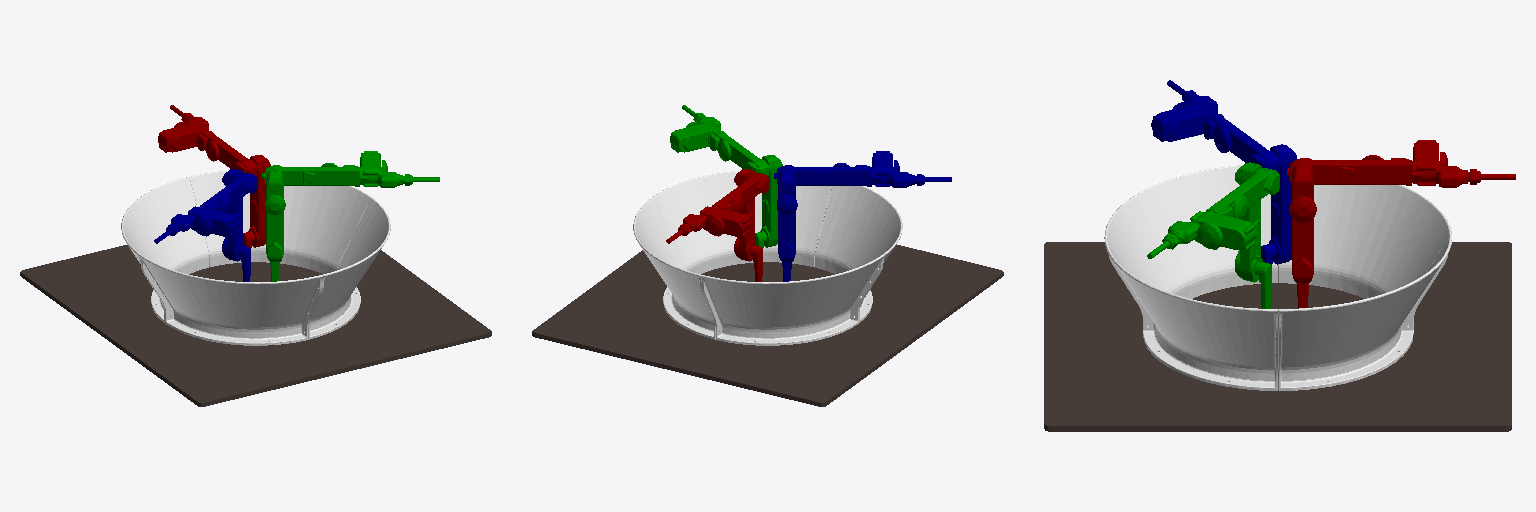
robot.urdf — trifinger_with_stage:
<?xml version="1.0" ?>
<!-- =================================================================================== -->
<!-- |    This document was autogenerated by xacro from robot_properties_fingers/xacro/trifinger_with_stage.urdf.xacro | -->
<!-- |    EDITING THIS FILE BY HAND IS NOT RECOMMENDED                                 | -->
<!-- =================================================================================== -->
<robot name="trifinger_with_stage">
  <!--
    Frames are defined such that they all align with the base frame when all
    joints are at position zero.

    In zero-configuration the origins of all joints are in one line.

    In zero-configuration the origin of the base link is exactly above the
    finger tip which should make it easy to place the finger in the world.
    -->
  <!-- Define the global base_link and place all other objects relative to it. -->
  <link name="base_link">
    <inertial>
      <origin rpy="0 0 0" xyz="0 0 0"/>
      <mass value="1"/>
      <inertia ixx="4.166666666666667e-06" ixy="0" ixz="0" iyy="4.166666666666667e-06" iyz="0" izz="4.166666666666667e-06"/>
    </inertial>
  </link>
  <!-- Define the upper holder -->
  <link name="upper_holder_link">
    <inertial>
      <origin rpy="0 0 0" xyz="0 0 0"/>
      <mass value="1"/>
      <inertia ixx="4.166666666666667e-06" ixy="0" ixz="0" iyy="4.166666666666667e-06" iyz="0" izz="4.166666666666667e-06"/>
    </inertial>
  </link>
  <joint name="base_to_upper_holder_joint" type="fixed">
    <parent link="base_link"/>
    <child link="upper_holder_link"/>
    <origin xyz="0 0 0.29"/>
  </joint>
  <material name="finger_0_material">
    <color rgba="0.6 0.0 0.0 1.0"/>
  </material>
  <material name="finger_120_material">
    <color rgba="0.0 0.6 0.0 1.0"/>
  </material>
  <material name="finger_240_material">
    <color rgba="0.0 0.0 0.6 1.0"/>
  </material>
  <!--
        Fixed links for the finger base (parts where the upper link is mounted).
        -->
  <link name="finger_base_link_0">
    <visual>
      <origin rpy="0 0 0" xyz="0 0.179 0"/>
      <geometry>
        <mesh filename="package://robot_properties_fingers/meshes/SIM__BL-Finger_Base.stl" scale="1 1 1"/>
      </geometry>
      <material name="finger_0_material"/>
    </visual>
    <collision>
      <origin rpy="0 0 0" xyz="0 0.179 0"/>
      <geometry>
        <mesh filename="package://robot_properties_fingers/meshes/SIM__BL-Finger_Base.stl" scale="1 1 1"/>
      </geometry>
    </collision>
    <inertial>
      <origin rpy="0 0 0" xyz="0 0 0"/>
      <mass value="1"/>
      <inertia ixx="0.00041666666666666675" ixy="0" ixz="0" iyy="0.00041666666666666675" iyz="0" izz="0.00041666666666666675"/>
    </inertial>
  </link>
  <!-- The movable links (upper, middle and lower) of the finger. -->
  <!-- TODO inertia parameters don't look correct, they cant be same for upper and middle! -->
  <link name="finger_upper_link_0">
    <visual>
      <origin rpy="0 0 0" xyz="0 -0.02695 0"/>
      <geometry>
        <mesh filename="package://robot_properties_fingers/meshes/SIM__BL-Finger_Proximal.stl" scale="1 1 1"/>
      </geometry>
      <material name="finger_0_material"/>
    </visual>
    <collision>
      <origin rpy="0 0 0" xyz="0 -0.02695 0"/>
      <geometry>
        <mesh filename="package://robot_properties_fingers/meshes/SIM__BL-Finger_Proximal.stl" scale="1 1 1"/>
      </geometry>
    </collision>
    <inertial>
      <origin rpy="0 0 0" xyz="0 0.06 0"/>
      <mass value="0.2"/>
      <inertia ixx="0.0003533333333333334" ixy="0" ixz="0" iyy="5.333333333333333e-05" iyz="0" izz="0.0003533333333333334"/>
    </inertial>
  </link>
  <link name="finger_middle_link_0">
    <visual>
      <origin rpy="1.5707963267948966 0 0" xyz="0.014 0 0"/>
      <geometry>
        <mesh filename="package://robot_properties_fingers/meshes/SIM__BL-Finger_Intermediate.stl" scale="1 1 1"/>
      </geometry>
      <material name="finger_0_material"/>
    </visual>
    <collision>
      <origin rpy="1.5707963267948966 0 0" xyz="0.014 0 0"/>
      <geometry>
        <mesh filename="package://robot_properties_fingers/meshes/SIM__BL-Finger_Intermediate.stl" scale="1 1 1"/>
      </geometry>
    </collision>
    <inertial>
      <origin rpy="0 0 0" xyz="0.028 0 -0.08"/>
      <mass value="0.2"/>
      <inertia ixx="0.0003533333333333334" ixy="0" ixz="0" iyy="0.0003533333333333334" iyz="0" izz="5.333333333333333e-05"/>
    </inertial>
  </link>
  <link name="finger_lower_link_0">
    <visual>
      <origin rpy="1.5707963267948966 0 0" xyz="0.014 0 0"/>
      <geometry>
        <mesh filename="package://robot_properties_fingers/meshes/SIM_BL_FINGER_TIP_LINK.stl" scale="1 1 1"/>
      </geometry>
      <material name="finger_0_material"/>
    </visual>
    <collision>
      <origin rpy="1.5707963267948966 0 0" xyz="0.014 0 0"/>
      <geometry>
        <mesh filename="package://robot_properties_fingers/meshes/SIM_BL_FINGER_TIP_LINK.stl" scale="1 1 1"/>
      </geometry>
    </collision>
    <inertial>
      <origin rpy="0 0 0" xyz="0 0 -0.06"/>
      <mass value="0.01"/>
      <inertia ixx="1.6666666666666667e-05" ixy="0" ixz="0" iyy="1.6666666666666667e-05" iyz="0" izz="6.666666666666667e-07"/>
    </inertial>
  </link>
  <!-- fixed link for finger tip -->
  <link name="finger_tip_link_0">
    <inertial>
      <origin rpy="0 0 0" xyz="0 0 0"/>
      <mass value="0.02"/>
      <inertia ixx="3.3333333333333335e-07" ixy="0" ixz="0" iyy="3.3333333333333335e-07" iyz="0" izz="3.3333333333333335e-07"/>
    </inertial>
  </link>
  <joint name="finger_lower_to_tip_joint_0" type="fixed">
    <parent link="finger_lower_link_0"/>
    <child link="finger_tip_link_0"/>
    <origin xyz="0 0 -0.16"/>
  </joint>
  <!-- kinematics -->
  <!-- TODO: joint limits are based on values from wiki
        (https://atlas.is.localnet/confluence/display/AMDW/Forward+Kinematics) but
        should be verified on the real system (especially the finger tip limits look
        a bit too big when visualizing the model. -->
  <joint name="finger_base_to_upper_joint_0" type="revolute">
    <parent link="finger_base_link_0"/>
    <child link="finger_upper_link_0"/>
    <limit effort="1000" lower="-1.5707963267948966" upper="1.5707963267948966" velocity="1000"/>
    <axis xyz="0 1 0"/>
    <origin rpy="0 0 0" xyz="0 0 0"/>
  </joint>
  <joint name="finger_upper_to_middle_joint_0" type="revolute">
    <parent link="finger_upper_link_0"/>
    <child link="finger_middle_link_0"/>
    <limit effort="1000" lower="-1.3526301702956054" upper="4.494222823885399" velocity="1000"/>
    <axis xyz="-1 0 0"/>
    <origin rpy="0 0 0" xyz="0 0 0"/>
  </joint>
  <joint name="finger_middle_to_lower_joint_0" type="revolute">
    <parent link="finger_middle_link_0"/>
    <child link="finger_lower_link_0"/>
    <limit effort="1000" lower="-3.001966313430247" upper="3.001966313430247" velocity="1000"/>
    <axis xyz="1 0 0"/>
    <origin rpy="0 0 0" xyz="0 0 -0.16"/>
  </joint>
  <!--
        Fixed links for the finger base (parts where the upper link is mounted).
        -->
  <link name="finger_base_link_120">
    <visual>
      <origin rpy="0 0 0" xyz="0 0.179 0"/>
      <geometry>
        <mesh filename="package://robot_properties_fingers/meshes/SIM__BL-Finger_Base.stl" scale="1 1 1"/>
      </geometry>
      <material name="finger_120_material"/>
    </visual>
    <collision>
      <origin rpy="0 0 0" xyz="0 0.179 0"/>
      <geometry>
        <mesh filename="package://robot_properties_fingers/meshes/SIM__BL-Finger_Base.stl" scale="1 1 1"/>
      </geometry>
    </collision>
    <inertial>
      <origin rpy="0 0 0" xyz="0 0 0"/>
      <mass value="1"/>
      <inertia ixx="0.00041666666666666675" ixy="0" ixz="0" iyy="0.00041666666666666675" iyz="0" izz="0.00041666666666666675"/>
    </inertial>
  </link>
  <!-- The movable links (upper, middle and lower) of the finger. -->
  <!-- TODO inertia parameters don't look correct, they cant be same for upper and middle! -->
  <link name="finger_upper_link_120">
    <visual>
      <origin rpy="0 0 0" xyz="0 -0.02695 0"/>
      <geometry>
        <mesh filename="package://robot_properties_fingers/meshes/SIM__BL-Finger_Proximal.stl" scale="1 1 1"/>
      </geometry>
      <material name="finger_120_material"/>
    </visual>
    <collision>
      <origin rpy="0 0 0" xyz="0 -0.02695 0"/>
      <geometry>
        <mesh filename="package://robot_properties_fingers/meshes/SIM__BL-Finger_Proximal.stl" scale="1 1 1"/>
      </geometry>
    </collision>
    <inertial>
      <origin rpy="0 0 0" xyz="0 0.06 0"/>
      <mass value="0.2"/>
      <inertia ixx="0.0003533333333333334" ixy="0" ixz="0" iyy="5.333333333333333e-05" iyz="0" izz="0.0003533333333333334"/>
    </inertial>
  </link>
  <link name="finger_middle_link_120">
    <visual>
      <origin rpy="1.5707963267948966 0 0" xyz="0.014 0 0"/>
      <geometry>
        <mesh filename="package://robot_properties_fingers/meshes/SIM__BL-Finger_Intermediate.stl" scale="1 1 1"/>
      </geometry>
      <material name="finger_120_material"/>
    </visual>
    <collision>
      <origin rpy="1.5707963267948966 0 0" xyz="0.014 0 0"/>
      <geometry>
        <mesh filename="package://robot_properties_fingers/meshes/SIM__BL-Finger_Intermediate.stl" scale="1 1 1"/>
      </geometry>
    </collision>
    <inertial>
      <origin rpy="0 0 0" xyz="0.028 0 -0.08"/>
      <mass value="0.2"/>
      <inertia ixx="0.0003533333333333334" ixy="0" ixz="0" iyy="0.0003533333333333334" iyz="0" izz="5.333333333333333e-05"/>
    </inertial>
  </link>
  <link name="finger_lower_link_120">
    <visual>
      <origin rpy="1.5707963267948966 0 0" xyz="0.014 0 0"/>
      <geometry>
        <mesh filename="package://robot_properties_fingers/meshes/SIM_BL_FINGER_TIP_LINK.stl" scale="1 1 1"/>
      </geometry>
      <material name="finger_120_material"/>
    </visual>
    <collision>
      <origin rpy="1.5707963267948966 0 0" xyz="0.014 0 0"/>
      <geometry>
        <mesh filename="package://robot_properties_fingers/meshes/SIM_BL_FINGER_TIP_LINK.stl" scale="1 1 1"/>
      </geometry>
    </collision>
    <inertial>
      <origin rpy="0 0 0" xyz="0 0 -0.06"/>
      <mass value="0.01"/>
      <inertia ixx="1.6666666666666667e-05" ixy="0" ixz="0" iyy="1.6666666666666667e-05" iyz="0" izz="6.666666666666667e-07"/>
    </inertial>
  </link>
  <!-- fixed link for finger tip -->
  <link name="finger_tip_link_120">
    <inertial>
      <origin rpy="0 0 0" xyz="0 0 0"/>
      <mass value="0.02"/>
      <inertia ixx="3.3333333333333335e-07" ixy="0" ixz="0" iyy="3.3333333333333335e-07" iyz="0" izz="3.3333333333333335e-07"/>
    </inertial>
  </link>
  <joint name="finger_lower_to_tip_joint_120" type="fixed">
    <parent link="finger_lower_link_120"/>
    <child link="finger_tip_link_120"/>
    <origin xyz="0 0 -0.16"/>
  </joint>
  <!-- kinematics -->
  <!-- TODO: joint limits are based on values from wiki
        (https://atlas.is.localnet/confluence/display/AMDW/Forward+Kinematics) but
        should be verified on the real system (especially the finger tip limits look
        a bit too big when visualizing the model. -->
  <joint name="finger_base_to_upper_joint_120" type="revolute">
    <parent link="finger_base_link_120"/>
    <child link="finger_upper_link_120"/>
    <limit effort="1000" lower="-1.5707963267948966" upper="1.5707963267948966" velocity="1000"/>
    <axis xyz="0 1 0"/>
    <origin rpy="0 0 0" xyz="0 0 0"/>
  </joint>
  <joint name="finger_upper_to_middle_joint_120" type="revolute">
    <parent link="finger_upper_link_120"/>
    <child link="finger_middle_link_120"/>
    <limit effort="1000" lower="-1.3526301702956054" upper="4.494222823885399" velocity="1000"/>
    <axis xyz="-1 0 0"/>
    <origin rpy="0 0 0" xyz="0 0 0"/>
  </joint>
  <joint name="finger_middle_to_lower_joint_120" type="revolute">
    <parent link="finger_middle_link_120"/>
    <child link="finger_lower_link_120"/>
    <limit effort="1000" lower="-3.001966313430247" upper="3.001966313430247" velocity="1000"/>
    <axis xyz="1 0 0"/>
    <origin rpy="0 0 0" xyz="0 0 -0.16"/>
  </joint>
  <!--
        Fixed links for the finger base (parts where the upper link is mounted).
        -->
  <link name="finger_base_link_240">
    <visual>
      <origin rpy="0 0 0" xyz="0 0.179 0"/>
      <geometry>
        <mesh filename="package://robot_properties_fingers/meshes/SIM__BL-Finger_Base.stl" scale="1 1 1"/>
      </geometry>
      <material name="finger_240_material"/>
    </visual>
    <collision>
      <origin rpy="0 0 0" xyz="0 0.179 0"/>
      <geometry>
        <mesh filename="package://robot_properties_fingers/meshes/SIM__BL-Finger_Base.stl" scale="1 1 1"/>
      </geometry>
    </collision>
    <inertial>
      <origin rpy="0 0 0" xyz="0 0 0"/>
      <mass value="1"/>
      <inertia ixx="0.00041666666666666675" ixy="0" ixz="0" iyy="0.00041666666666666675" iyz="0" izz="0.00041666666666666675"/>
    </inertial>
  </link>
  <!-- The movable links (upper, middle and lower) of the finger. -->
  <!-- TODO inertia parameters don't look correct, they cant be same for upper and middle! -->
  <link name="finger_upper_link_240">
    <visual>
      <origin rpy="0 0 0" xyz="0 -0.02695 0"/>
      <geometry>
        <mesh filename="package://robot_properties_fingers/meshes/SIM__BL-Finger_Proximal.stl" scale="1 1 1"/>
      </geometry>
      <material name="finger_240_material"/>
    </visual>
    <collision>
      <origin rpy="0 0 0" xyz="0 -0.02695 0"/>
      <geometry>
        <mesh filename="package://robot_properties_fingers/meshes/SIM__BL-Finger_Proximal.stl" scale="1 1 1"/>
      </geometry>
    </collision>
    <inertial>
      <origin rpy="0 0 0" xyz="0 0.06 0"/>
      <mass value="0.2"/>
      <inertia ixx="0.0003533333333333334" ixy="0" ixz="0" iyy="5.333333333333333e-05" iyz="0" izz="0.0003533333333333334"/>
    </inertial>
  </link>
  <link name="finger_middle_link_240">
    <visual>
      <origin rpy="1.5707963267948966 0 0" xyz="0.014 0 0"/>
      <geometry>
        <mesh filename="package://robot_properties_fingers/meshes/SIM__BL-Finger_Intermediate.stl" scale="1 1 1"/>
      </geometry>
      <material name="finger_240_material"/>
    </visual>
    <collision>
      <origin rpy="1.5707963267948966 0 0" xyz="0.014 0 0"/>
      <geometry>
        <mesh filename="package://robot_properties_fingers/meshes/SIM__BL-Finger_Intermediate.stl" scale="1 1 1"/>
      </geometry>
    </collision>
    <inertial>
      <origin rpy="0 0 0" xyz="0.028 0 -0.08"/>
      <mass value="0.2"/>
      <inertia ixx="0.0003533333333333334" ixy="0" ixz="0" iyy="0.0003533333333333334" iyz="0" izz="5.333333333333333e-05"/>
    </inertial>
  </link>
  <link name="finger_lower_link_240">
    <visual>
      <origin rpy="1.5707963267948966 0 0" xyz="0.014 0 0"/>
      <geometry>
        <mesh filename="package://robot_properties_fingers/meshes/SIM_BL_FINGER_TIP_LINK.stl" scale="1 1 1"/>
      </geometry>
      <material name="finger_240_material"/>
    </visual>
    <collision>
      <origin rpy="1.5707963267948966 0 0" xyz="0.014 0 0"/>
      <geometry>
        <mesh filename="package://robot_properties_fingers/meshes/SIM_BL_FINGER_TIP_LINK.stl" scale="1 1 1"/>
      </geometry>
    </collision>
    <inertial>
      <origin rpy="0 0 0" xyz="0 0 -0.06"/>
      <mass value="0.01"/>
      <inertia ixx="1.6666666666666667e-05" ixy="0" ixz="0" iyy="1.6666666666666667e-05" iyz="0" izz="6.666666666666667e-07"/>
    </inertial>
  </link>
  <!-- fixed link for finger tip -->
  <link name="finger_tip_link_240">
    <inertial>
      <origin rpy="0 0 0" xyz="0 0 0"/>
      <mass value="0.02"/>
      <inertia ixx="3.3333333333333335e-07" ixy="0" ixz="0" iyy="3.3333333333333335e-07" iyz="0" izz="3.3333333333333335e-07"/>
    </inertial>
  </link>
  <joint name="finger_lower_to_tip_joint_240" type="fixed">
    <parent link="finger_lower_link_240"/>
    <child link="finger_tip_link_240"/>
    <origin xyz="0 0 -0.16"/>
  </joint>
  <!-- kinematics -->
  <!-- TODO: joint limits are based on values from wiki
        (https://atlas.is.localnet/confluence/display/AMDW/Forward+Kinematics) but
        should be verified on the real system (especially the finger tip limits look
        a bit too big when visualizing the model. -->
  <joint name="finger_base_to_upper_joint_240" type="revolute">
    <parent link="finger_base_link_240"/>
    <child link="finger_upper_link_240"/>
    <limit effort="1000" lower="-1.5707963267948966" upper="1.5707963267948966" velocity="1000"/>
    <axis xyz="0 1 0"/>
    <origin rpy="0 0 0" xyz="0 0 0"/>
  </joint>
  <joint name="finger_upper_to_middle_joint_240" type="revolute">
    <parent link="finger_upper_link_240"/>
    <child link="finger_middle_link_240"/>
    <limit effort="1000" lower="-1.3526301702956054" upper="4.494222823885399" velocity="1000"/>
    <axis xyz="-1 0 0"/>
    <origin rpy="0 0 0" xyz="0 0 0"/>
  </joint>
  <joint name="finger_middle_to_lower_joint_240" type="revolute">
    <parent link="finger_middle_link_240"/>
    <child link="finger_lower_link_240"/>
    <limit effort="1000" lower="-3.001966313430247" upper="3.001966313430247" velocity="1000"/>
    <axis xyz="1 0 0"/>
    <origin rpy="0 0 0" xyz="0 0 -0.16"/>
  </joint>
  <joint name="holder_to_finger_0" type="fixed">
    <parent link="upper_holder_link"/>
    <child link="finger_base_link_0"/>
    <origin rpy="0 0 0" xyz="0.0 0.04 0"/>
  </joint>
  <joint name="holder_to_finger_120" type="fixed">
    <parent link="upper_holder_link"/>
    <child link="finger_base_link_120"/>
    <origin rpy="0 0 -2.0943951023931953" xyz="0.034641016151377546 -0.01999999999999999 0"/>
  </joint>
  <joint name="holder_to_finger_240" type="fixed">
    <parent link="upper_holder_link"/>
    <child link="finger_base_link_240"/>
    <origin rpy="0 0 -4.1887902047863905" xyz="-0.03464101615137754 -0.020000000000000018 0"/>
  </joint>
  <material name="table_material">
    <color rgba="0.31 0.27 0.25 1.0"/>
  </material>
  <material name="boundary_material">
    <color rgba="0.95 0.95 0.95 1.0"/>
  </material>
  <link name="table_link">
    <visual>
      <origin rpy="0 0 0" xyz="0 0 0"/>
      <geometry>
        <mesh filename="package://robot_properties_fingers/meshes/stl/trifinger_table_without_border.stl" scale="1 1 1"/>
      </geometry>
      <material name="table_material"/>
    </visual>
    <collision>
      <origin rpy="0 0 0" xyz="0 0 0"/>
      <geometry>
        <mesh filename="package://robot_properties_fingers/meshes/stl/trifinger_table_without_border.stl" scale="1 1 1"/>
      </geometry>
    </collision>
    <inertial>
      <origin rpy="0 0 0" xyz="0 0 0"/>
      <mass value="2"/>
      <inertia ixx="0.09628333333333333" ixy="0" ixz="0" iyy="0.08403333333333332" iyz="0" izz="0.18028333333333335"/>
    </inertial>
  </link>
  <link name="boundary_link">
    <visual>
      <origin rpy="0 0 0" xyz="0 0 0"/>
      <geometry>
        <mesh filename="package://robot_properties_fingers/meshes/stl/high_table_boundary.stl" scale="1 1 1"/>
      </geometry>
      <material name="boundary_material"/>
    </visual>
    <collision>
      <origin rpy="0 0 0" xyz="0 0 0"/>
      <geometry>
        <mesh filename="package://robot_properties_fingers/meshes/stl/high_table_boundary.stl" scale="1 1 1"/>
      </geometry>
    </collision>
    <inertial>
      <origin rpy="0 0 0" xyz="0 0 0"/>
      <mass value="2"/>
      <inertia ixx="0.05708333333333333" ixy="0" ixz="0" iyy="0.05708333333333333" iyz="0" izz="0.10453333333333334"/>
    </inertial>
  </link>
  <joint name="base_to_table" type="fixed">
    <parent link="base_link"/>
    <child link="table_link"/>
    <origin xyz="0 0 0"/>
  </joint>
  <joint name="table_to_boundary" type="fixed">
    <parent link="table_link"/>
    <child link="boundary_link"/>
    <origin xyz="0 0 0"/>
  </joint>
</robot>

--- Facts derived from the render (not from the file) ---
The picture shows the robot from 3 angles, left to right: view 1: azimuth 30°, elevation 25°; view 2: azimuth 150°, elevation 25°; view 3: azimuth 270°, elevation 25°; orthographic projection.
Model trifinger_with_stage with 19 links and 18 joints (9 revolute, 9 fixed), rooted at base_link, posed all joints at 0.
Visible links, largest first — view 1: table_link, boundary_link, finger_upper_link_120, finger_base_link_240, finger_middle_link_120, finger_base_link_120, finger_base_link_0, finger_upper_link_0, finger_middle_link_0, finger_upper_link_240, finger_middle_link_240; view 2: table_link, boundary_link, finger_upper_link_240, finger_base_link_0, finger_middle_link_240, finger_base_link_240, finger_base_link_120, finger_upper_link_120, finger_middle_link_120, finger_upper_link_0, finger_middle_link_0; view 3: table_link, boundary_link, finger_upper_link_0, finger_base_link_120, finger_middle_link_0, finger_base_link_0, finger_base_link_240, finger_upper_link_240, finger_middle_link_240, finger_upper_link_120, finger_middle_link_120, finger_lower_link_120.
Boxes of the visible links, x1,y1,x2,y2 form: table_link: (20, 245, 491, 406); boundary_link: (121, 171, 390, 345); finger_upper_link_120: (262, 163, 359, 186); finger_base_link_240: (154, 206, 239, 243); finger_middle_link_120: (265, 170, 285, 261); finger_base_link_120: (360, 151, 439, 187); finger_base_link_0: (158, 105, 213, 152); finger_upper_link_0: (198, 129, 256, 176); finger_middle_link_0: (248, 155, 270, 247); finger_upper_link_240: (200, 173, 256, 212); finger_middle_link_240: (222, 168, 244, 261); table_link: (532, 245, 1003, 406); boundary_link: (633, 170, 902, 345); finger_upper_link_240: (774, 163, 871, 186); finger_base_link_0: (666, 206, 751, 243); finger_middle_link_240: (777, 170, 797, 261); finger_base_link_240: (872, 151, 951, 187); finger_base_link_120: (670, 105, 725, 152); finger_upper_link_120: (710, 129, 768, 176); finger_middle_link_120: (760, 155, 782, 247); finger_upper_link_0: (712, 173, 768, 212); finger_middle_link_0: (734, 168, 756, 261); table_link: (1044, 242, 1511, 431); boundary_link: (1104, 165, 1451, 390); finger_upper_link_0: (1287, 155, 1411, 185); finger_base_link_120: (1147, 211, 1256, 258); finger_middle_link_0: (1289, 164, 1316, 282); finger_base_link_0: (1412, 140, 1515, 187); finger_base_link_240: (1151, 80, 1223, 141); finger_upper_link_240: (1204, 112, 1279, 172); finger_middle_link_240: (1269, 144, 1296, 264); finger_upper_link_120: (1206, 168, 1279, 219); finger_middle_link_120: (1235, 162, 1262, 282); finger_lower_link_120: (1255, 261, 1271, 308).
Bounding box of the posed robot: 0.71 × 0.7654 × 0.354 m (x, y, z).
Meshes: 6 distinct files referenced, 14 mesh visuals loaded (6 binary STL).
